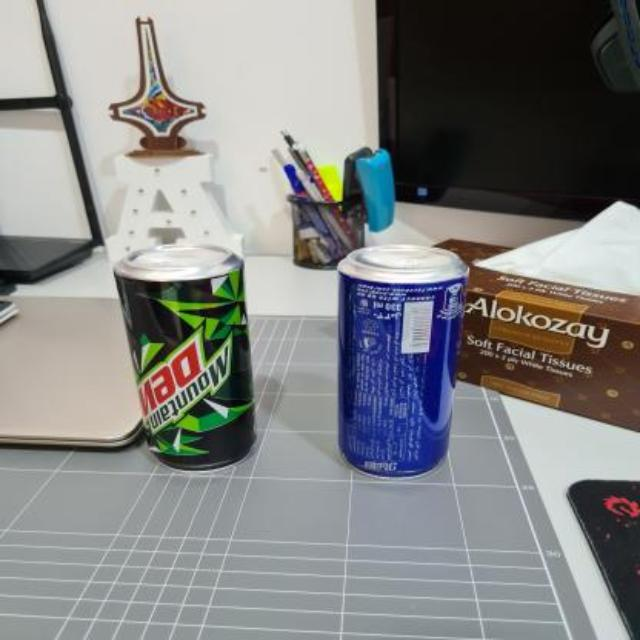cardboard paper: (480, 202, 638, 294)
metal: (114, 238, 254, 469), (338, 245, 466, 477)
